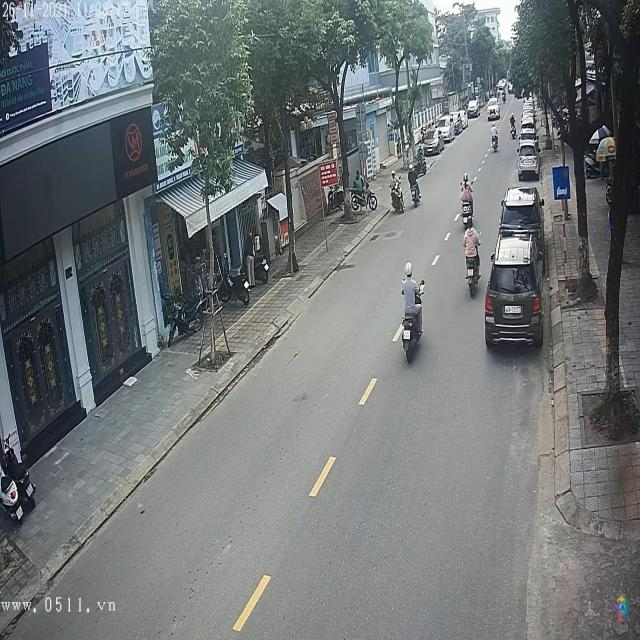car: (485, 235, 543, 350), (500, 187, 546, 241), (518, 144, 542, 181), (424, 126, 446, 155), (518, 126, 536, 142), (467, 99, 481, 118), (487, 107, 500, 122)
motorcycle: (396, 303, 425, 361), (465, 243, 483, 299), (460, 190, 475, 237), (389, 180, 407, 219)
